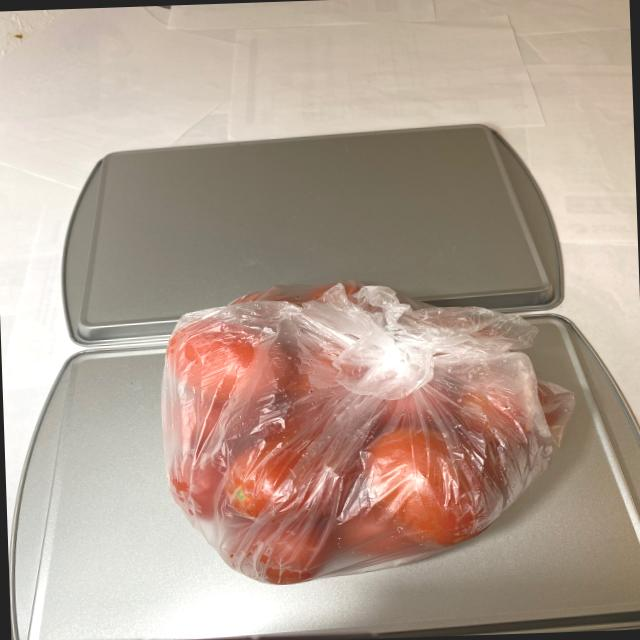tomato: (158, 280, 568, 585)
